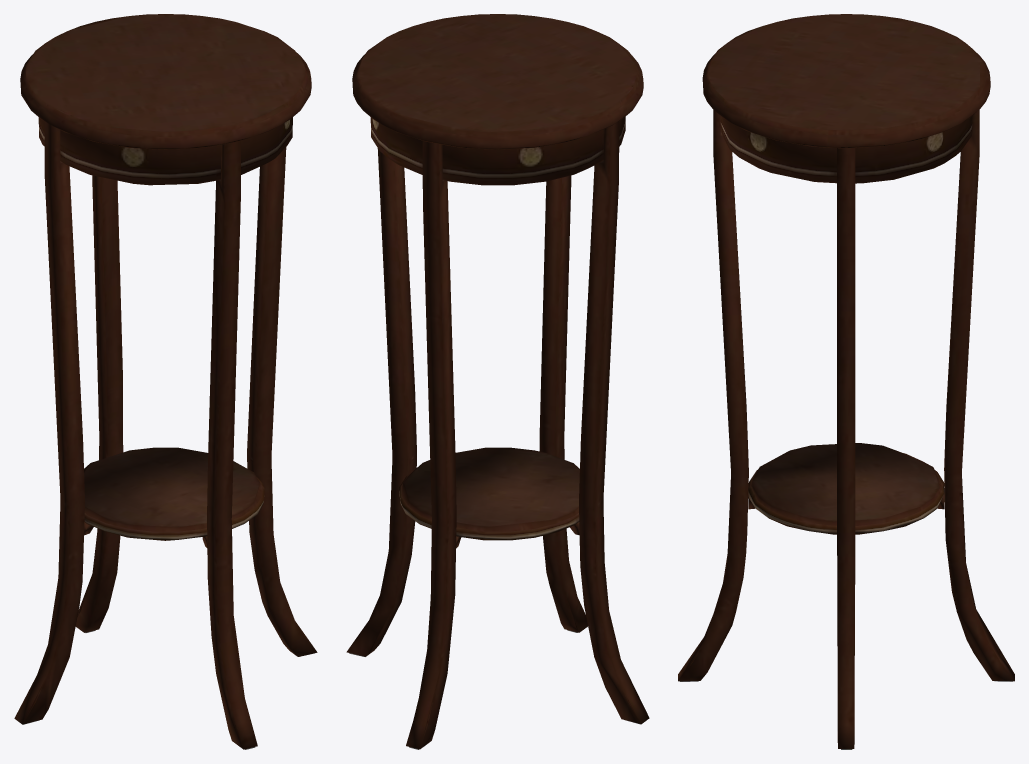
File: side_table_tall_01.glb
3 views of the same model, side by side, from view 1: azimuth 30°, elevation 25°; view 2: azimuth 150°, elevation 25°; view 3: azimuth 270°, elevation 25° (orthographic).
Parts seen in each view (by area): view 1: side_table_tall_01; view 2: side_table_tall_01; view 3: side_table_tall_01.
Part boxes in pixels (box(x1,y1,x2,y2)): side_table_tall_01: box(14, 14, 317, 749); side_table_tall_01: box(346, 14, 649, 749); side_table_tall_01: box(678, 14, 1014, 749).
Bounding box in the file's own units: 0.3828 × 0.7611 × 0.3828.
1 material, 1 textured.
